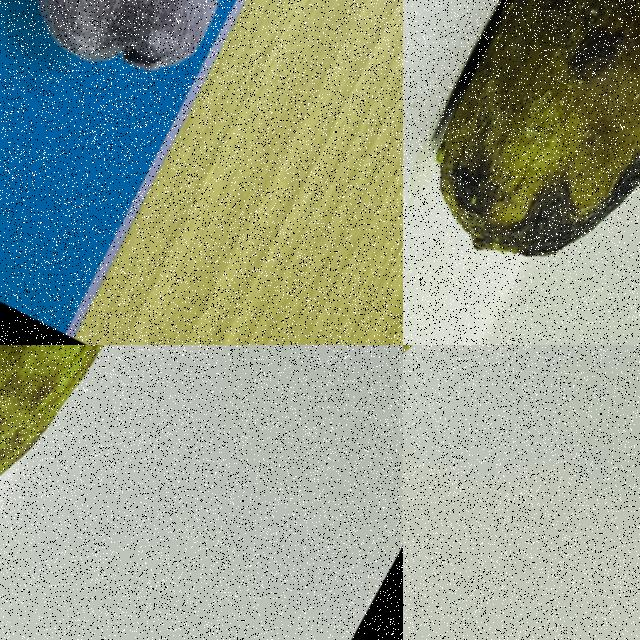Agglomerated_cocoabeans: (0, 0, 307, 168)
Fine_cocoabeans: (403, 0, 639, 339), (0, 345, 219, 612), (403, 345, 586, 514)
